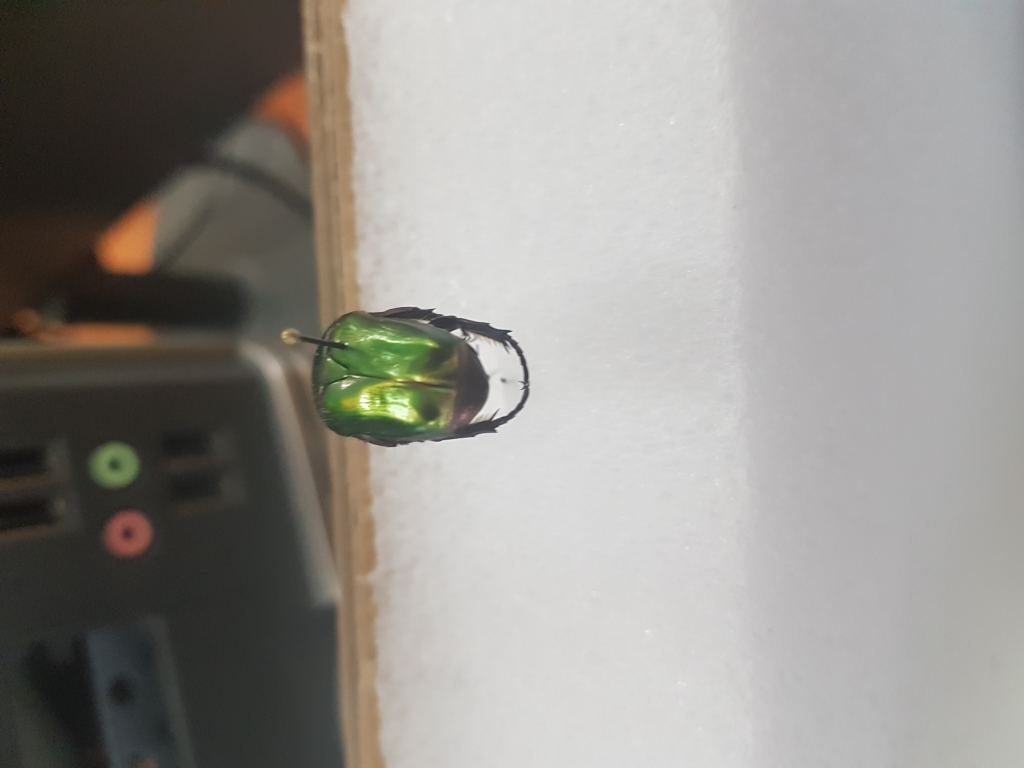Protaetia_cuprea_ignicollis: (309, 295, 560, 455)
